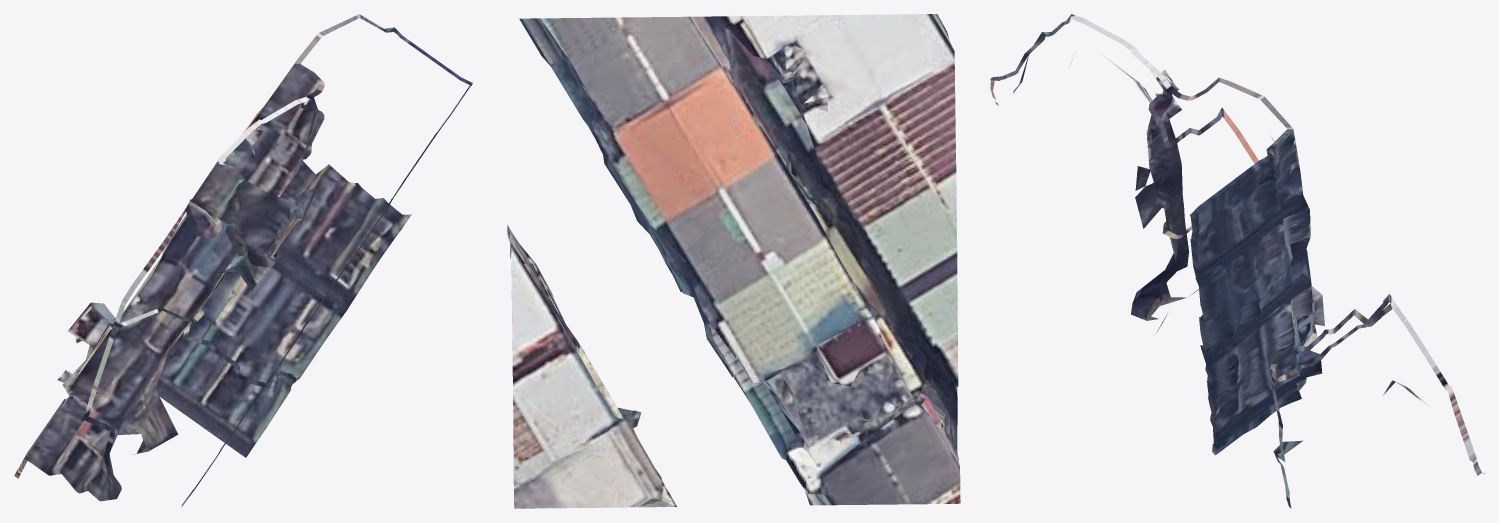
3 views of the same model, side by side, from view 1: azimuth 30°, elevation 25°; view 2: azimuth 150°, elevation 25°; view 3: azimuth 270°, elevation 25° (orthographic). The views are drawn at different scales.
Size of the model in its own units: 42.61 by 39.84 by 40.4.
2 materials, 2 textured.
